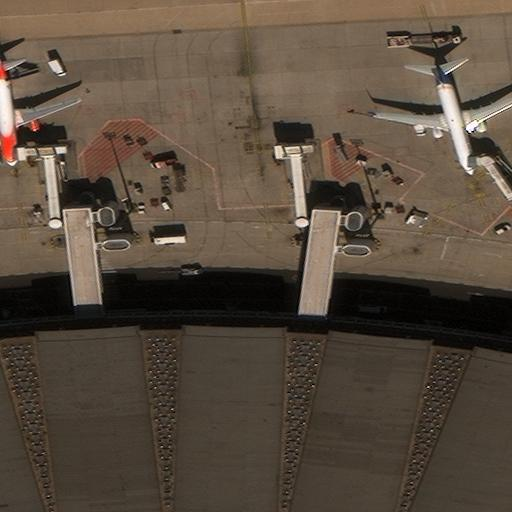Medium Civil Transport: (373, 63, 511, 174), (0, 56, 83, 165)
